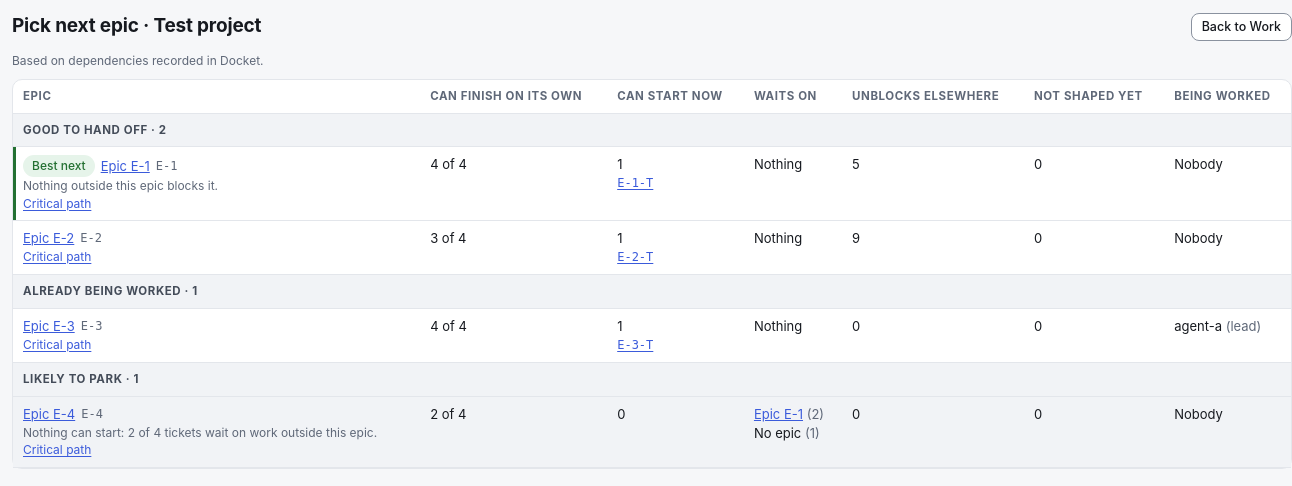
Test case: the table › sorts inside each group from the column header, and says so
Check: the text "Best next" is shown, box [23, 155, 95, 177]
Click the button "Unblocks elsewhere" at (926, 96), box [852, 88, 999, 105]
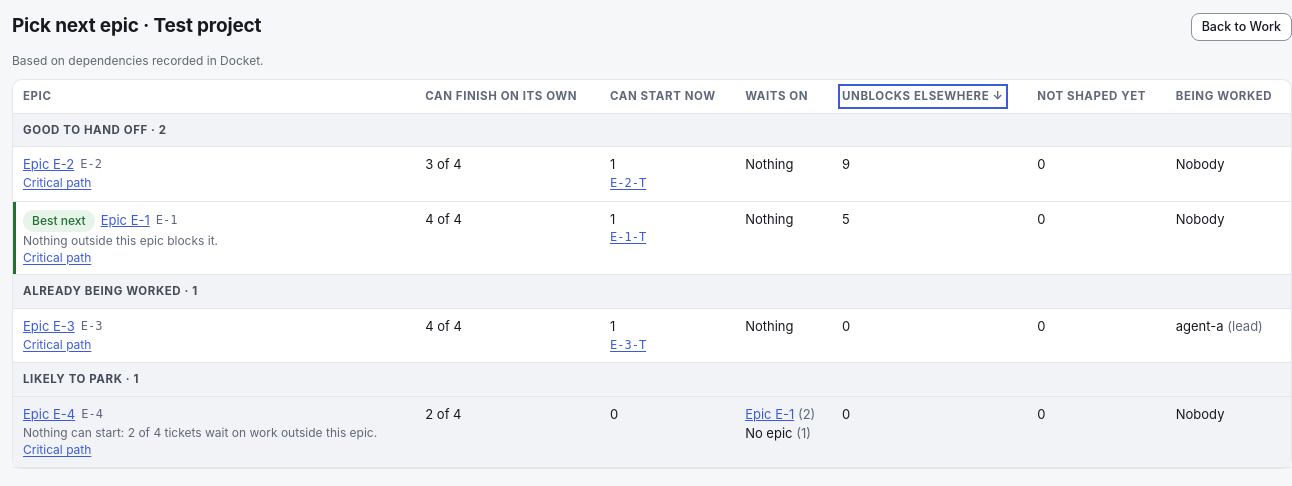
Check: the column heading "Unblocks elsewhere ↓" has attribute aria-sort="descending", box [832, 80, 1027, 113]
